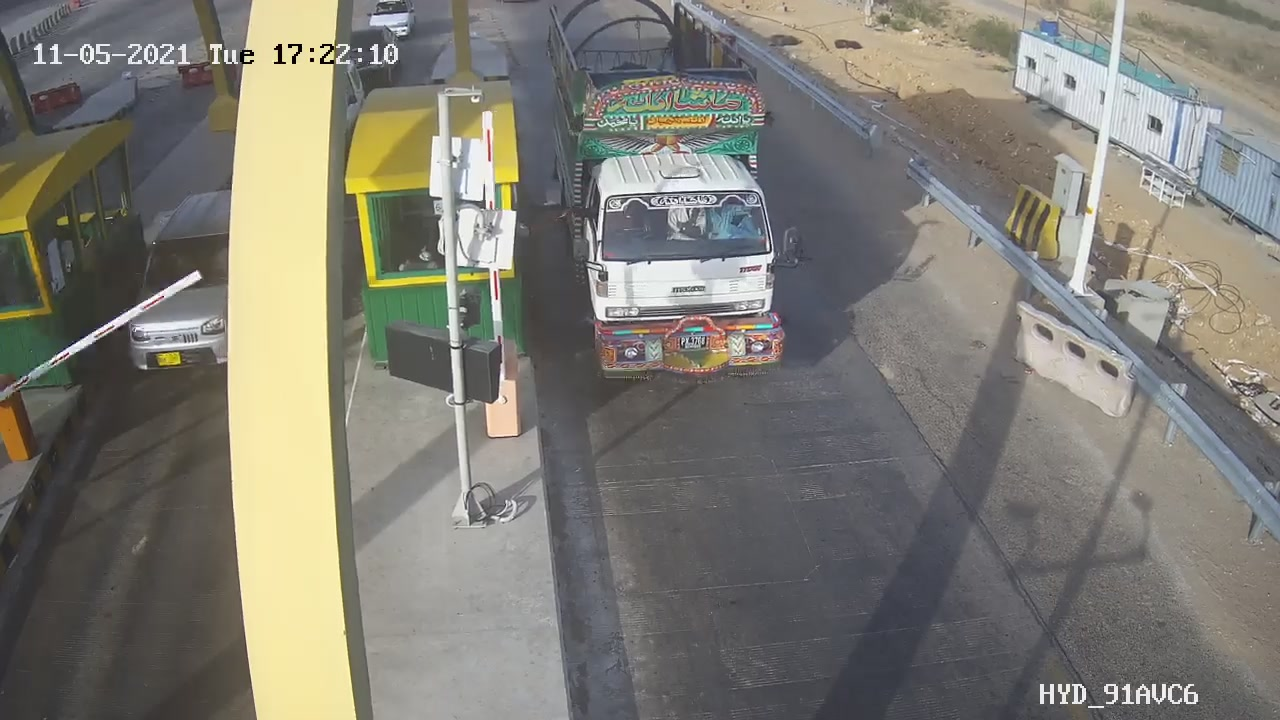F5: (526, 1, 834, 409)
